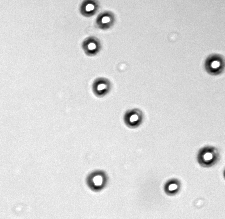Living Cell: (91, 75, 112, 97), (87, 169, 108, 190), (123, 108, 144, 127), (198, 146, 217, 166), (82, 35, 100, 56), (205, 54, 223, 75), (97, 10, 116, 27), (164, 178, 180, 194), (81, 1, 98, 15)
